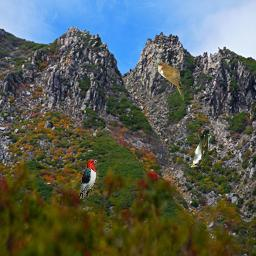Cuckoo: (154, 62, 184, 102), (190, 130, 210, 167)
Woodpecker: (79, 159, 99, 199)
